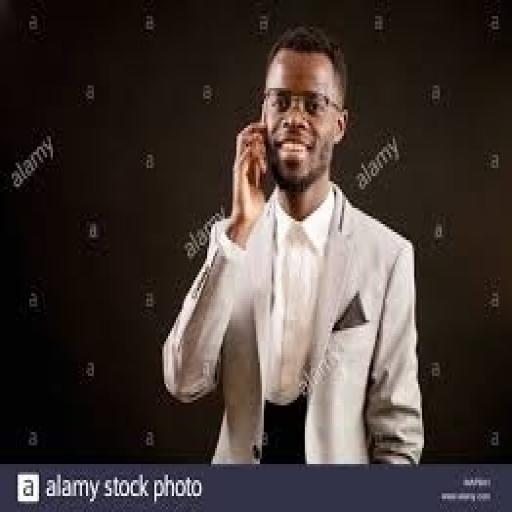calling: (160, 21, 426, 464)
